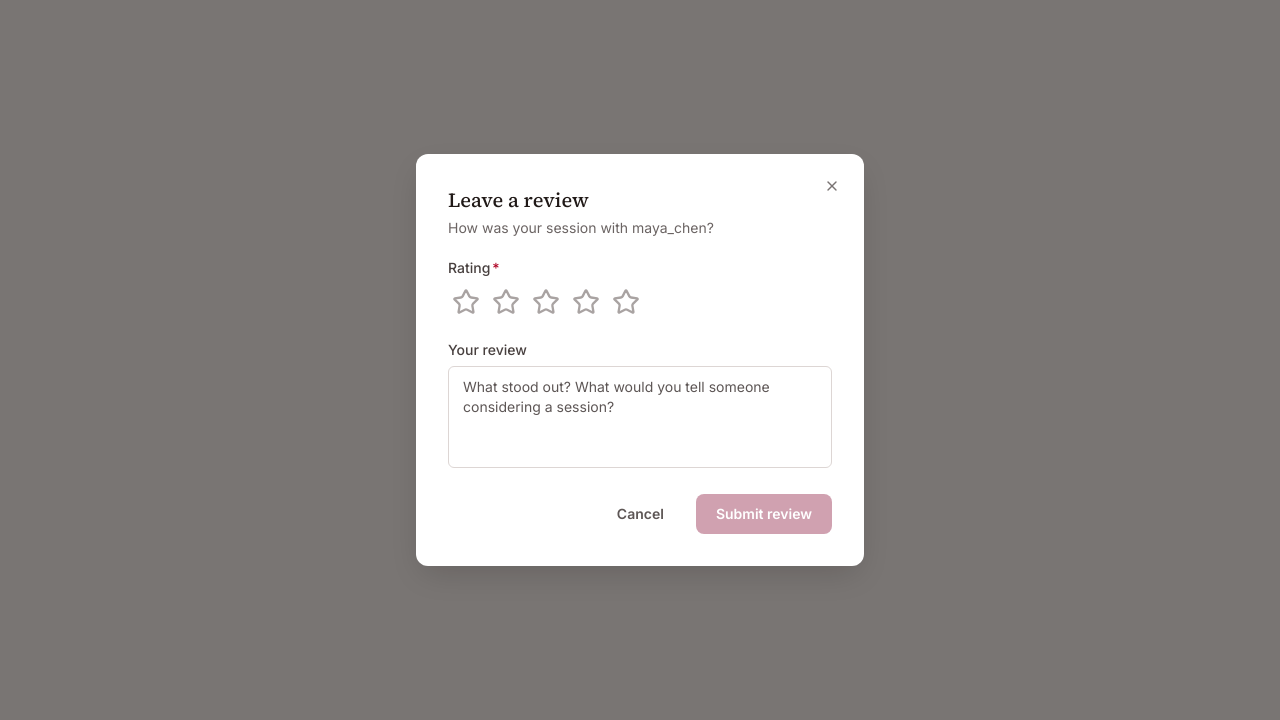
Test: ReviewModal › submitting › shows the server message and stays open on failure
Click the radio button named "4 stars" at (586, 302), box [568,284,604,320]
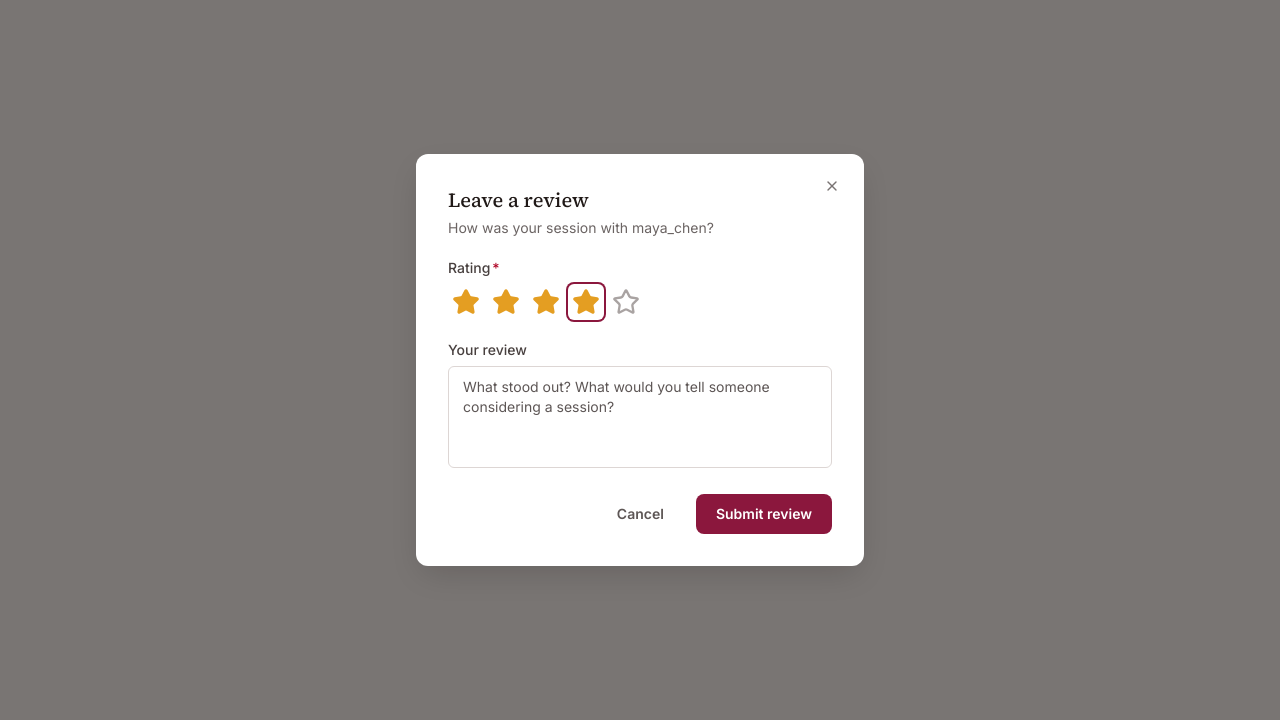
Type "Second attempt." into the text box labelled "Your review" at (640, 417), box [448,366,832,468]
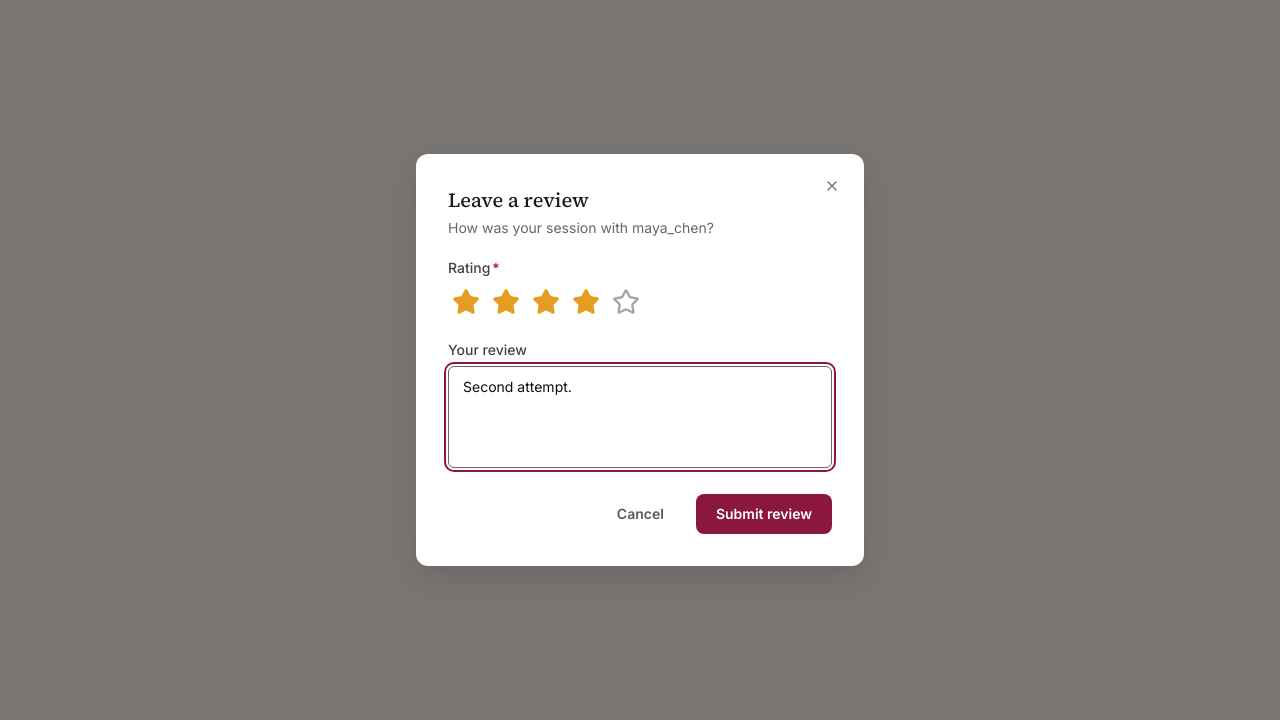
Click the button "Submit review" at (764, 514), box [696,494,832,534]
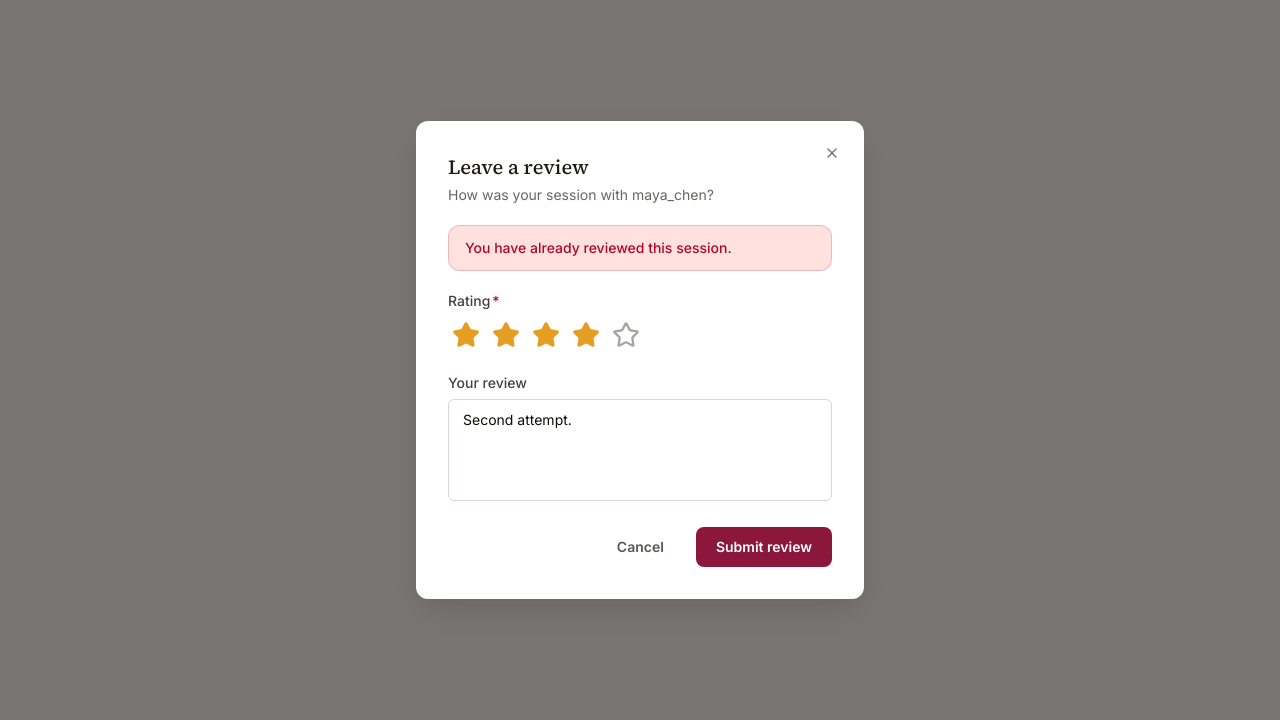
Expected: the message reads "You have already reviewed this session.", [465,239,732,256]
